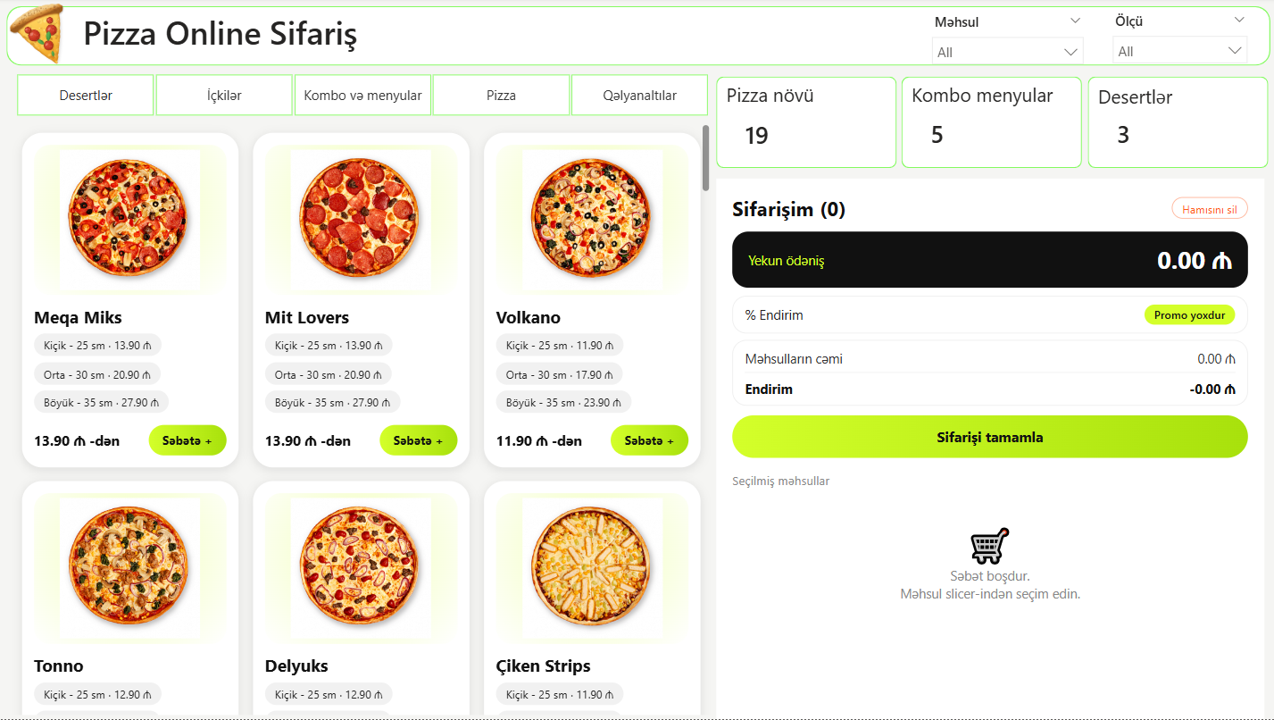

The dashboard page shown, as its layout file describes it:
{"tool":"powerbi","page":{"name":"Pizza","canvas":[1280,720],"ordinal":0},"visuals":[{"type":"htmlContent443BE3AD55E043BF878BED274D3A6855","fields":{"content":["pizza_mizza_products.Menyu HTML"]},"box":[718,170.3,551,549.9],"z":0},{"type":"htmlContent443BE3AD55E043BF878BED274D3A6855","fields":{"content":["pizza_mizza_products.Menyu HTML"]},"box":[10,120,707.5,600],"z":1000},{"type":"shape","box":[9.7,8.4,1260.7,59.1],"z":2000},{"type":"slicer","fields":{"Values":["pizza_mizza_products.category"]},"box":[0,74.4,728.9,45.6],"z":3000},{"type":"shape","box":[717.8,78.9,180,91.1],"z":4000},{"type":"cardVisual","fields":{"Data":["Count(pizza_mizza_products.pizza_id)"]},"box":[719.1,102.4,179.2,67.9],"z":5000},{"type":"slicer","fields":{"Values":["pizza_mizza_products.product_name"]},"box":[922.8,10,171.4,57.9],"z":6000},{"type":"slicer","fields":{"Values":["pizza_mizza_products.size"]},"box":[1103.2,8.9,154.7,59],"z":7000},{"type":"textbox","box":[81.1,7.8,318.9,60],"z":8000},{"type":"textbox","box":[717.8,78.9,172.2,45.6],"z":9000},{"type":"image","box":[0,3.3,81.1,67.8],"z":10000},{"type":"shape","box":[903.3,78.9,180,91.1],"z":11000},{"type":"shape","box":[1088.9,78.9,180,91.1],"z":12000},{"type":"textbox","box":[903.3,78.9,180,43.3],"z":13000},{"type":"cardVisual","fields":{"Data":["Count(pizza_mizza_products.pizza_id)"]},"box":[902.8,103.5,180.3,67.9],"z":14000},{"type":"cardVisual","fields":{"Data":["Count(pizza_mizza_products.pizza_id)"]},"box":[1088.7,103.5,180.3,67.9],"z":15000},{"type":"textbox","box":[1088.9,81.1,180,43.3],"z":16000}]}

Visuals, with their boxes in screenshot pixels (x1, y1, x2, y2), scaled from the page's 1280x720 canvas onto the 1274x720 screenshot:
htmlContent443BE3AD55E043BF878BED274D3A6855 - pizza_mizza_products.Menyu HTML: 715,170,1263,719
htmlContent443BE3AD55E043BF878BED274D3A6855 - pizza_mizza_products.Menyu HTML: 10,120,714,719
shape: 10,8,1264,68
slicer - pizza_mizza_products.category: 0,74,725,120
shape: 714,79,894,170
cardVisual - Count(pizza_mizza_products.pizza_id): 716,102,894,170
slicer - pizza_mizza_products.product_name: 918,10,1089,68
slicer - pizza_mizza_products.size: 1098,9,1252,68
textbox: 81,8,398,68
textbox: 714,79,886,124
image: 0,3,81,71
shape: 899,79,1078,170
shape: 1084,79,1263,170
textbox: 899,79,1078,122
cardVisual - Count(pizza_mizza_products.pizza_id): 899,104,1078,171
cardVisual - Count(pizza_mizza_products.pizza_id): 1084,104,1263,171
textbox: 1084,81,1263,124
